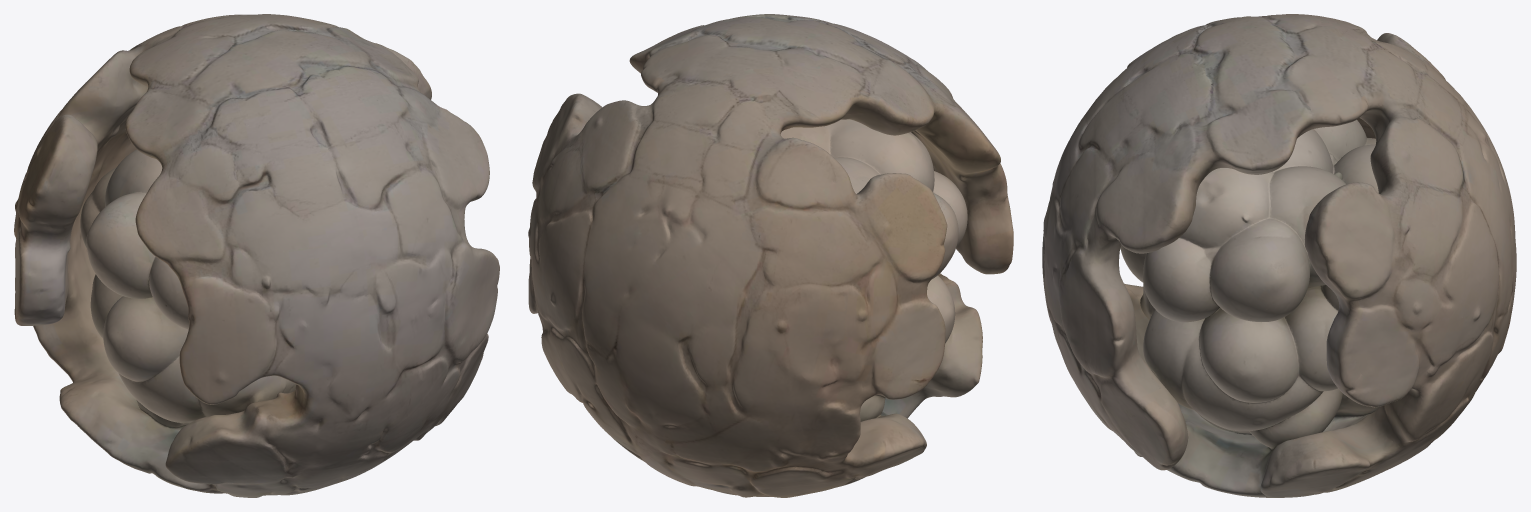
The model's file is detailed_realistic_model_solid_12.glb.
The picture shows the model from 3 angles, left to right: view 1: azimuth 30°, elevation 25°; view 2: azimuth 150°, elevation 25°; view 3: azimuth 270°, elevation 25°; orthographic projection.
Parts seen in each view (by area): view 1: tripo_node_f096a3e4-2f4c-42d5-8510-c425126fe444; view 2: tripo_node_f096a3e4-2f4c-42d5-8510-c425126fe444; view 3: tripo_node_f096a3e4-2f4c-42d5-8510-c425126fe444.
Part boxes in pixels (left/top/right/bottom): tripo_node_f096a3e4-2f4c-42d5-8510-c425126fe444: left=14, top=14, right=499, bottom=497; tripo_node_f096a3e4-2f4c-42d5-8510-c425126fe444: left=528, top=14, right=1013, bottom=497; tripo_node_f096a3e4-2f4c-42d5-8510-c425126fe444: left=1042, top=14, right=1516, bottom=497.
Size of the model in its own units: 0.9964 by 1 by 0.9922.
1 material, 1 textured.
